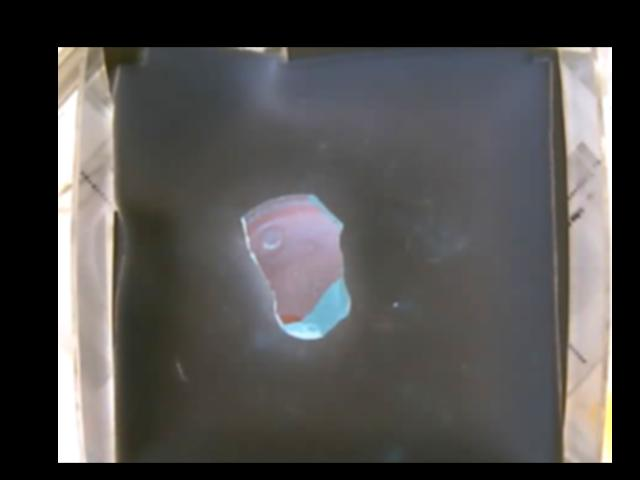China: (244, 193, 347, 337)
